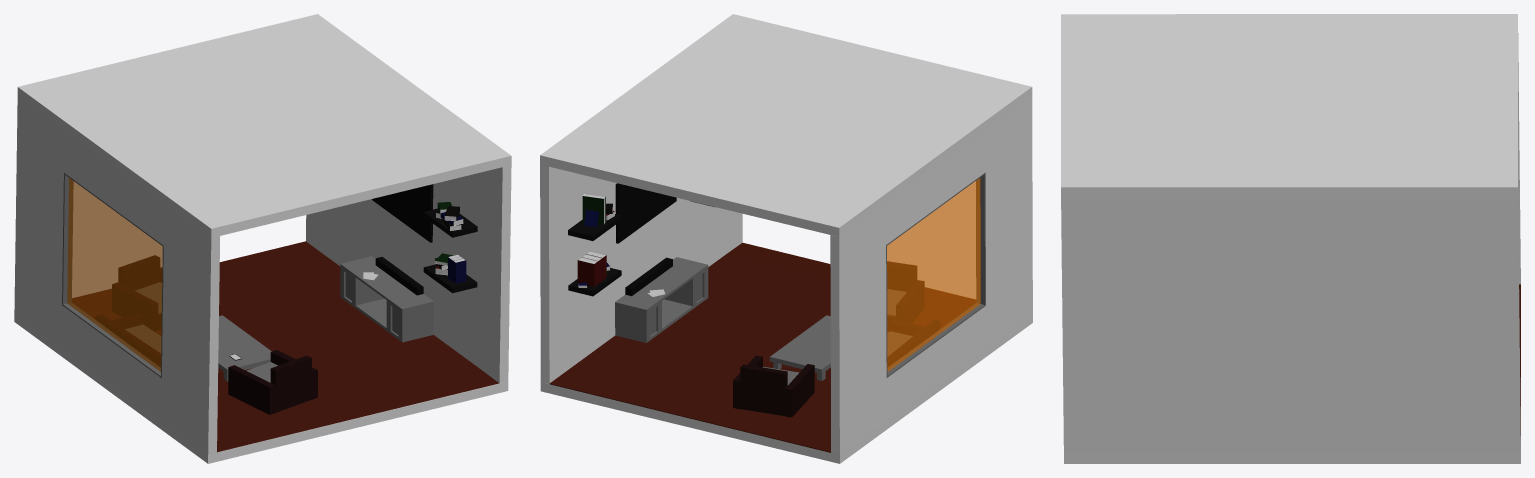
Rendered from Semi-a-Si.glb.
3 renders of one model, left to right at view 1: azimuth 30°, elevation 25°; view 2: azimuth 150°, elevation 25°; view 3: azimuth 270°, elevation 25°, orthographic. The views are drawn at different scales.
Visible parts, largest first — view 1: object 186, Cube (×12), object 187, object 189, object 184, object 188; view 2: object 186, Cube (×13), object 187, object 189, object 184, object 188; view 3: object 189, object 186, object 188.
Part boxes in pixels (box(x1,y1,x2,y2)): object 186: box(17, 14, 511, 237); Cube (×12): box(62, 173, 498, 452); object 187: box(14, 96, 220, 454); object 189: box(306, 165, 511, 383); object 184: box(67, 178, 162, 371); object 188: box(14, 313, 508, 463); object 186: box(540, 14, 1032, 236); Cube (×13): box(549, 172, 985, 452); object 187: box(830, 96, 1032, 454); object 189: box(540, 164, 742, 383); object 184: box(887, 178, 980, 371); object 188: box(540, 314, 1032, 463); object 189: box(1061, 198, 1520, 452); object 186: box(1061, 14, 1517, 197); object 188: box(1064, 453, 1520, 463).
Size of the model in its own units: 17.11 by 12.77 by 19.12.
